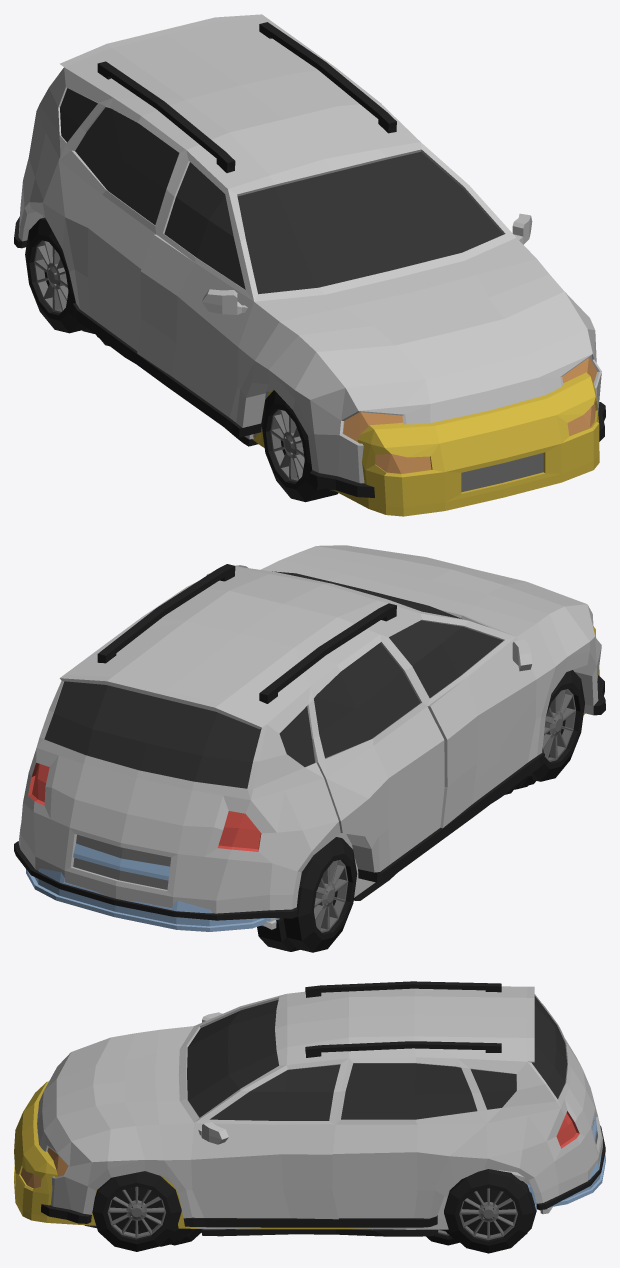
File: street.glb
The picture shows the model from 3 angles, top to bottom: view 1: azimuth 30°, elevation 25°; view 2: azimuth 150°, elevation 25°; view 3: azimuth 270°, elevation 25°; orthographic projection. The views are drawn at different scales.
Visible parts, largest first — view 1: White, Windows, Yellow, Black, Grey (×2), Headlights (×2); view 2: White, Windows, Black (×2), Grey, Blue, TailLights; view 3: White (×2), Windows, Black (×3), Yellow, Grey, Blue, TailLights.
Boxes of the visible parts, x1,y1,x2,y2 form: White: (18, 14, 601, 483); Windows: (60, 88, 503, 294); Yellow: (252, 372, 599, 516); Black: (14, 22, 605, 502); Grey (×2): (34, 240, 543, 492); Headlights (×2): (343, 357, 596, 473); White: (18, 545, 601, 913); Windows: (44, 571, 503, 788); Black (×2): (14, 564, 605, 952); Grey: (73, 689, 575, 932); Blue: (26, 843, 279, 931); TailLights: (28, 762, 261, 851); White (×2): (37, 986, 602, 1229); Windows: (187, 996, 567, 1120); Black (×3): (41, 981, 605, 1253); Yellow: (14, 1081, 380, 1229); Grey: (107, 1120, 597, 1240); Blue: (523, 1114, 605, 1209); TailLights: (556, 1111, 579, 1148).
Size of the model in its own units: 2.11 by 1.54 by 4.32.
